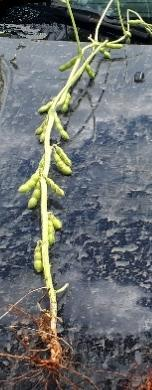soja: (49, 153, 73, 178), (18, 169, 40, 193), (43, 178, 69, 198), (31, 243, 47, 275), (51, 117, 70, 142), (53, 145, 74, 165), (29, 184, 41, 212), (59, 56, 80, 72), (45, 221, 57, 247), (59, 95, 75, 114), (85, 59, 98, 80), (33, 118, 48, 136), (51, 214, 63, 231), (39, 102, 55, 114), (39, 128, 48, 149), (128, 17, 146, 27), (99, 48, 113, 59), (105, 43, 125, 49), (124, 30, 134, 42)
